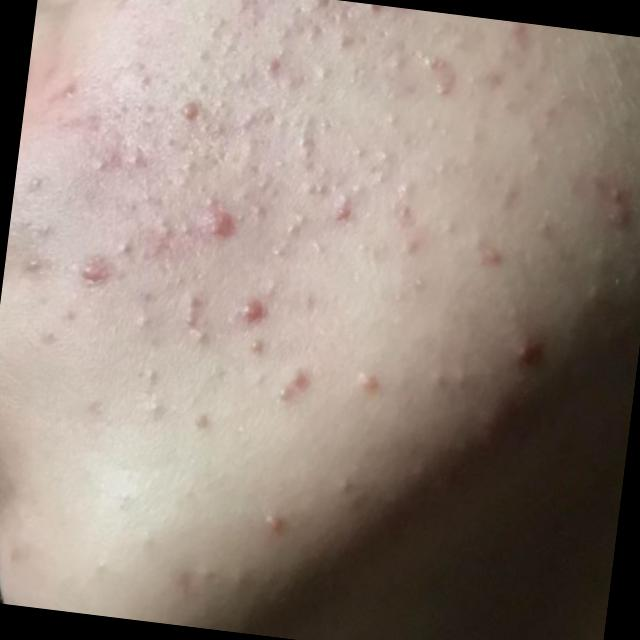fungal: (0, 9, 585, 573)
